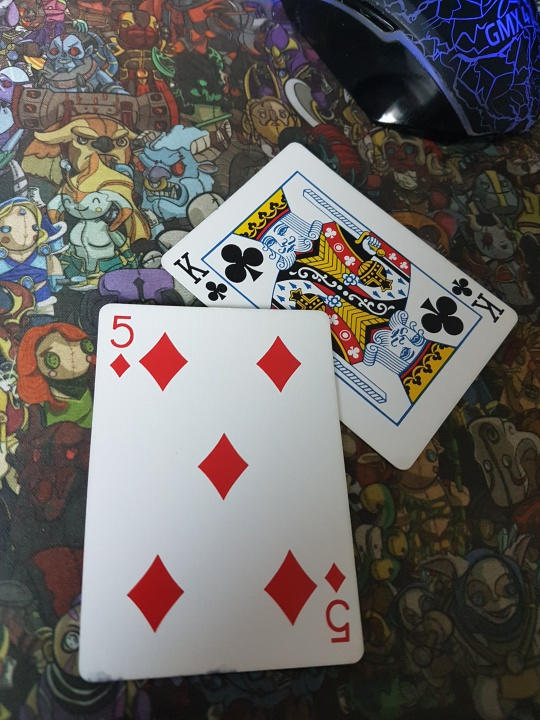5: (75, 303, 364, 685)
king: (160, 141, 520, 475)
